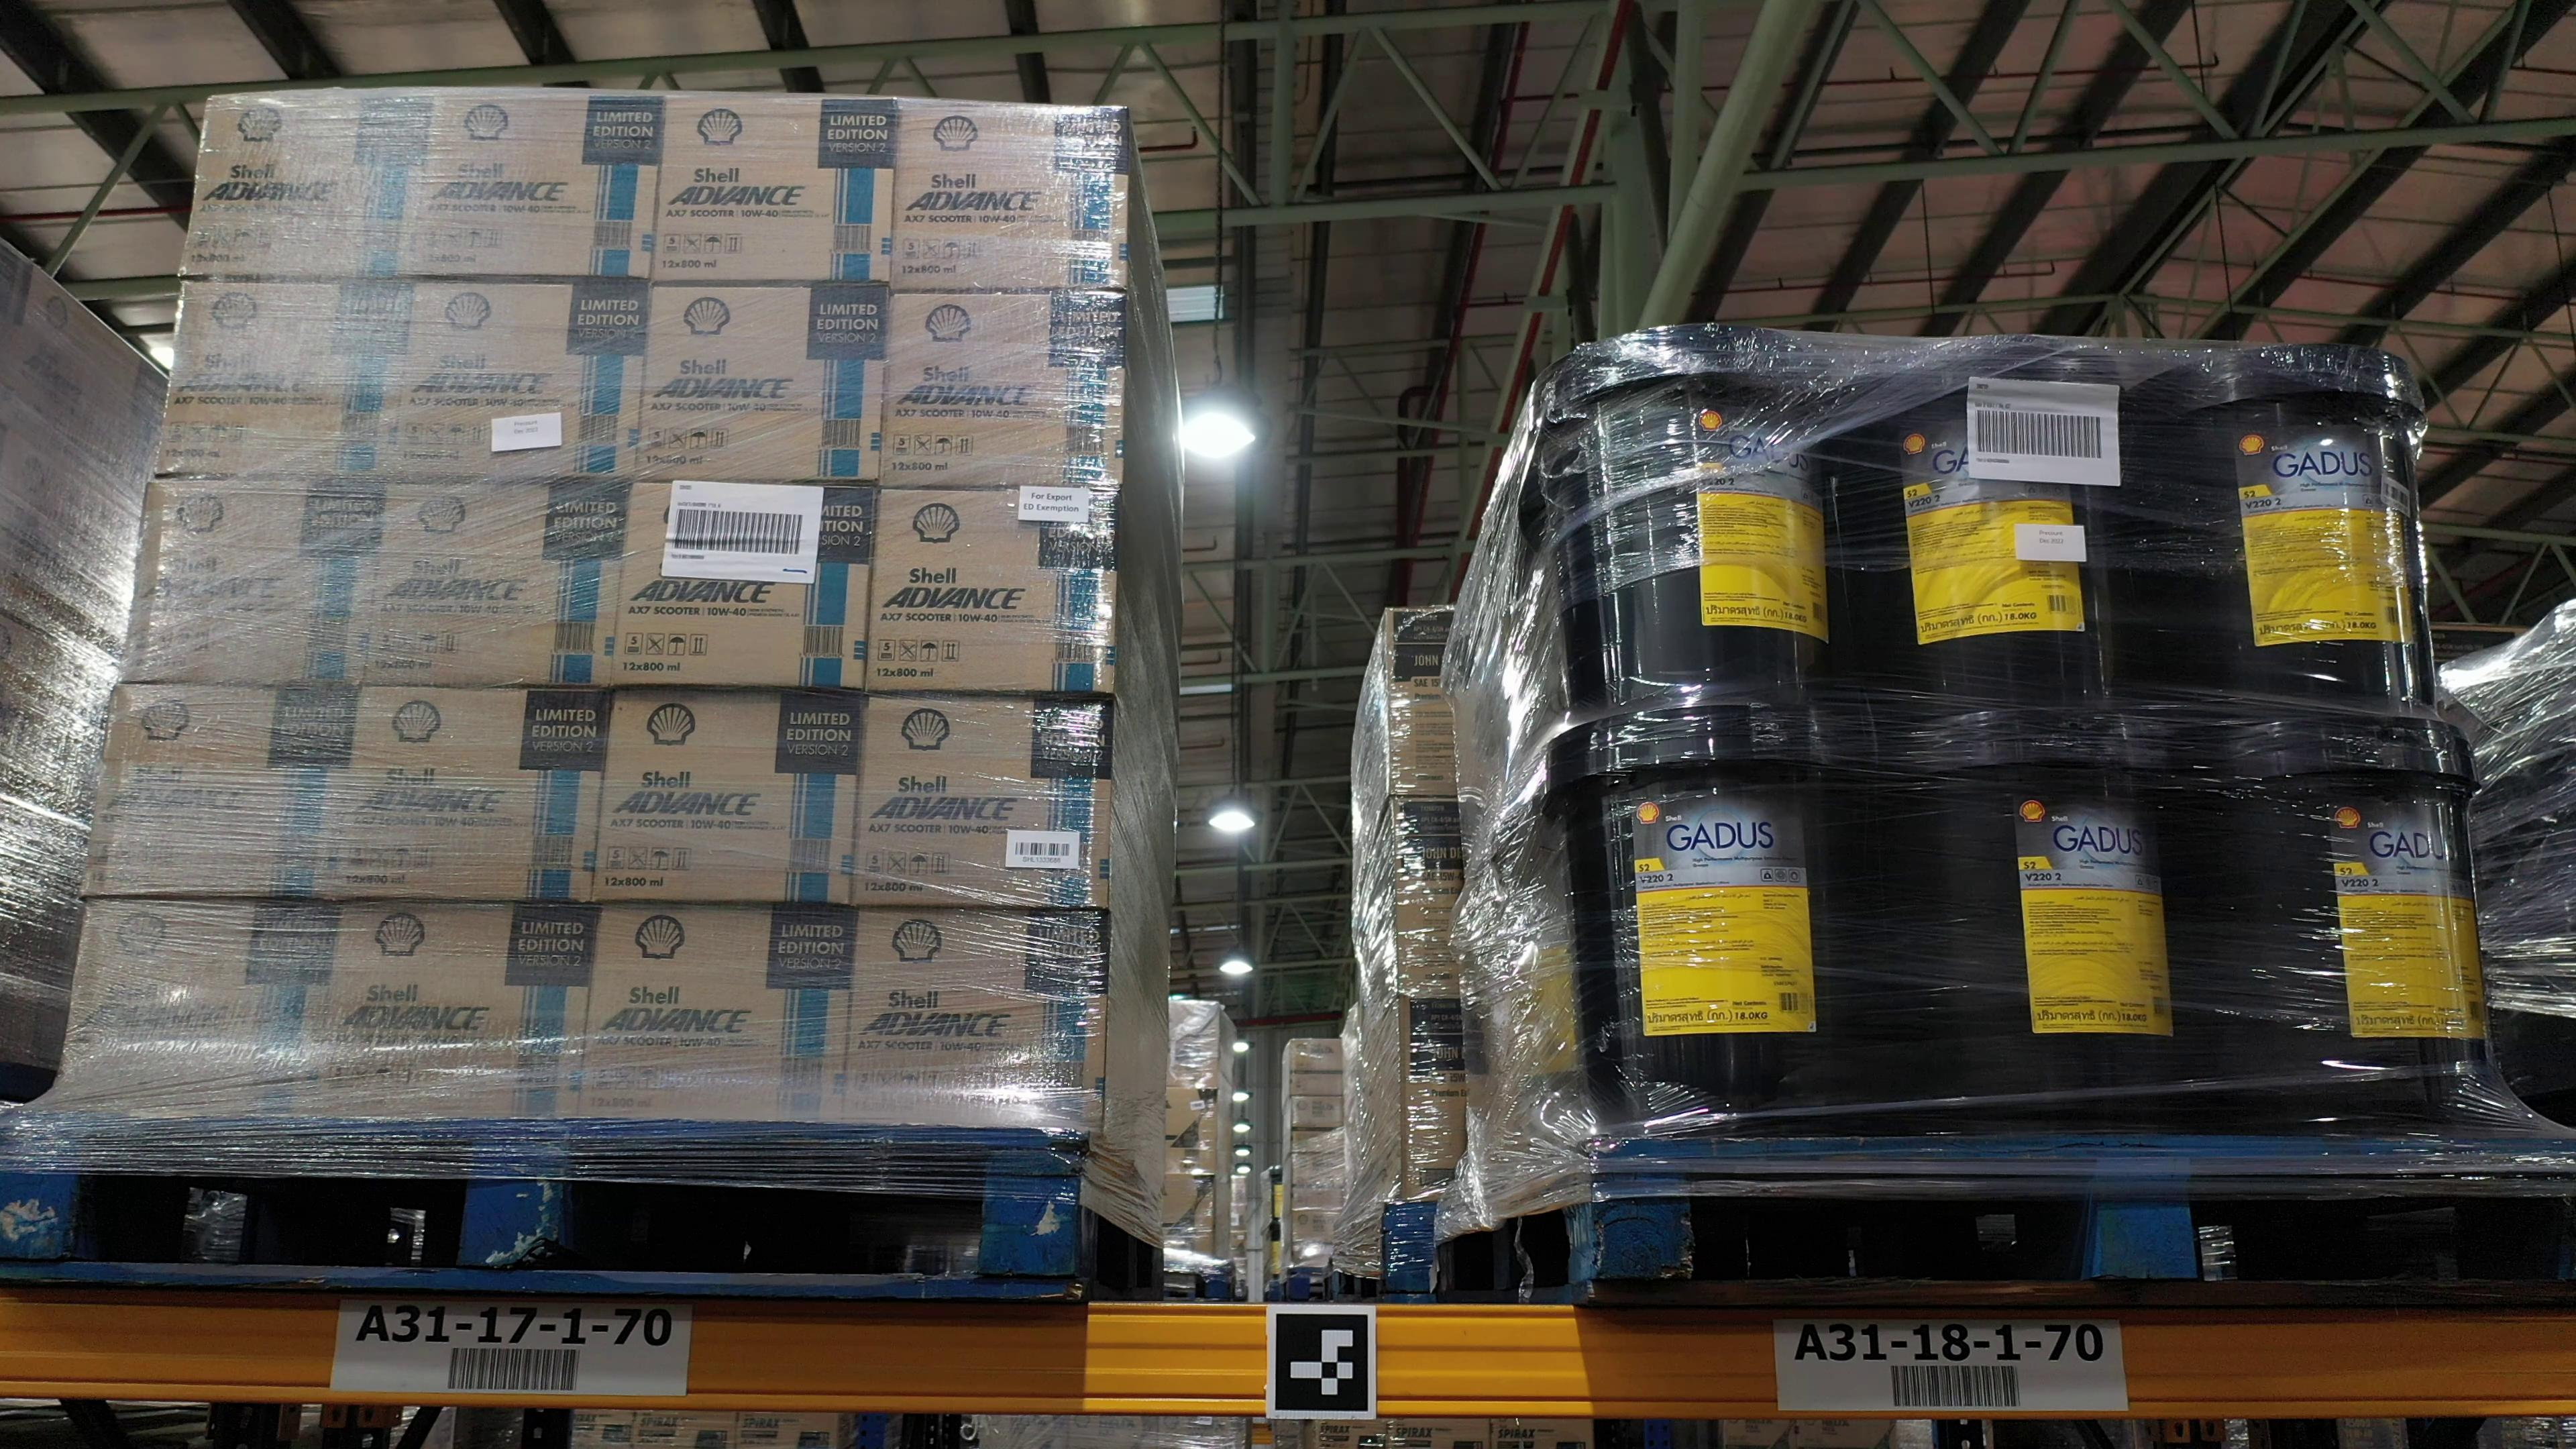-: (1888, 709, 2194, 1138), (1562, 702, 1861, 1138), (1529, 327, 1845, 731), (2206, 715, 2495, 1143), (2176, 333, 2442, 729), (1854, 345, 2127, 706), (313, 897, 600, 1125), (51, 897, 340, 1118), (579, 906, 856, 1125), (842, 906, 1109, 1132), (90, 685, 363, 904), (612, 478, 886, 692), (594, 690, 865, 906), (340, 685, 609, 901), (119, 478, 393, 685), (855, 694, 1111, 911), (364, 481, 635, 686), (387, 280, 649, 485), (154, 278, 414, 483), (865, 483, 1116, 694), (633, 281, 890, 483), (416, 87, 667, 280), (890, 101, 1143, 292), (881, 292, 1127, 488), (180, 87, 435, 274), (655, 96, 895, 281)
